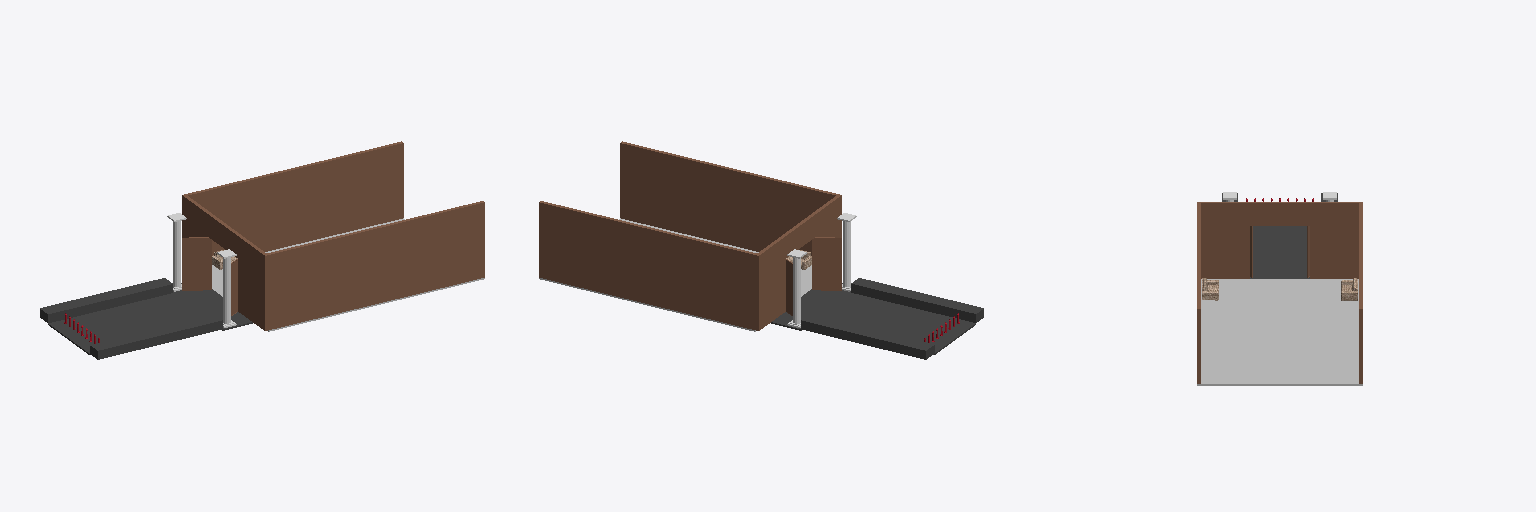
3 renders of one model, left to right at view 1: azimuth 30°, elevation 25°; view 2: azimuth 150°, elevation 25°; view 3: azimuth 270°, elevation 25°, orthographic.
Parts seen in each view (by area): view 1: wall_1, wall_2, ground, wall_ing_right, left_bound, right_bound, left_door, wall_ing_left, floor, wall_above_door, column_2, column_1; view 2: wall_2, wall_1, ground, wall_ing_left, left_bound, right_bound, right_door, wall_ing_right, floor, wall_above_door, column_1, column_2; view 3: floor, wall_ing_left, wall_ing_right, ground, wall_above_door, wall_1, wall_2.
Boxes of the visible parts, <box> form: wall_1: <box>267,201,484,329</box>; wall_2: <box>186,141,403,255</box>; ground: <box>48,283,252,354</box>; wall_ing_right: <box>238,236,268,330</box>; left_bound: <box>40,278,172,322</box>; right_bound: <box>90,315,222,359</box>; left_door: <box>182,237,211,290</box>; wall_ing_left: <box>182,194,211,237</box>; floor: <box>212,218,484,331</box>; wall_above_door: <box>209,214,241,257</box>; column_2: <box>217,249,236,327</box>; column_1: <box>167,213,186,291</box>; wall_2: <box>539,201,756,329</box>; wall_1: <box>620,141,837,255</box>; ground: <box>771,283,975,354</box>; wall_ing_left: <box>755,236,785,330</box>; left_bound: <box>801,314,934,359</box>; right_bound: <box>851,278,983,322</box>; right_door: <box>812,237,841,290</box>; wall_ing_right: <box>812,194,841,237</box>; floor: <box>539,218,811,331</box>; wall_above_door: <box>782,214,814,257</box>; column_1: <box>787,249,806,327</box>; column_2: <box>837,213,856,291</box>; floor: <box>1197,279,1362,385</box>; wall_ing_left: <box>1310,202,1362,278</box>; wall_ing_right: <box>1197,202,1249,278</box>; ground: <box>1250,226,1309,278</box>; wall_above_door: <box>1250,202,1309,225</box>; wall_1: <box>1197,203,1200,383</box>; wall_2: <box>1359,203,1362,383</box>.
Bounding box in the file's own units: 26 × 5.1 × 10.
Materials: 7 (5 with a texture image).